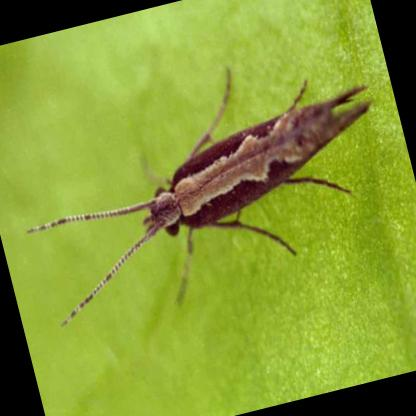plutella: (17, 59, 381, 337)
